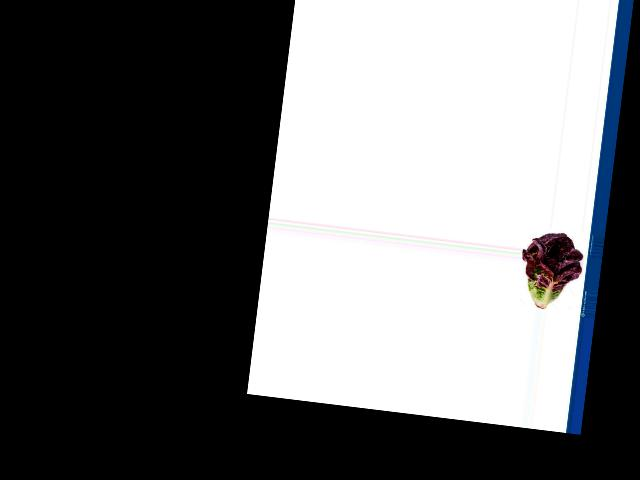lettuce: (518, 230, 586, 313)
